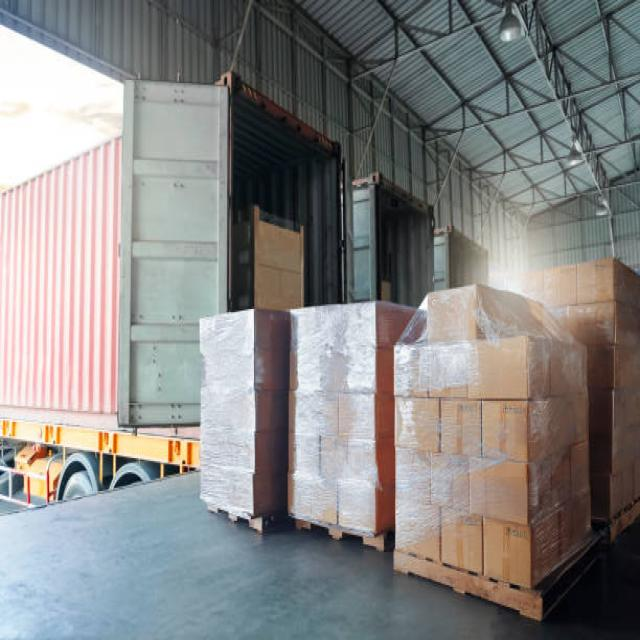Wooden-Pallets: (388, 525, 608, 626), (283, 505, 385, 558), (198, 498, 268, 545)
